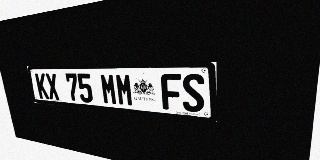5: (77, 73, 94, 103)
7: (64, 73, 81, 102)
F: (161, 74, 182, 111)
K: (35, 73, 49, 99)
M: (115, 73, 134, 107), (100, 73, 118, 105)
S: (182, 74, 205, 113)
X: (45, 73, 60, 100)
